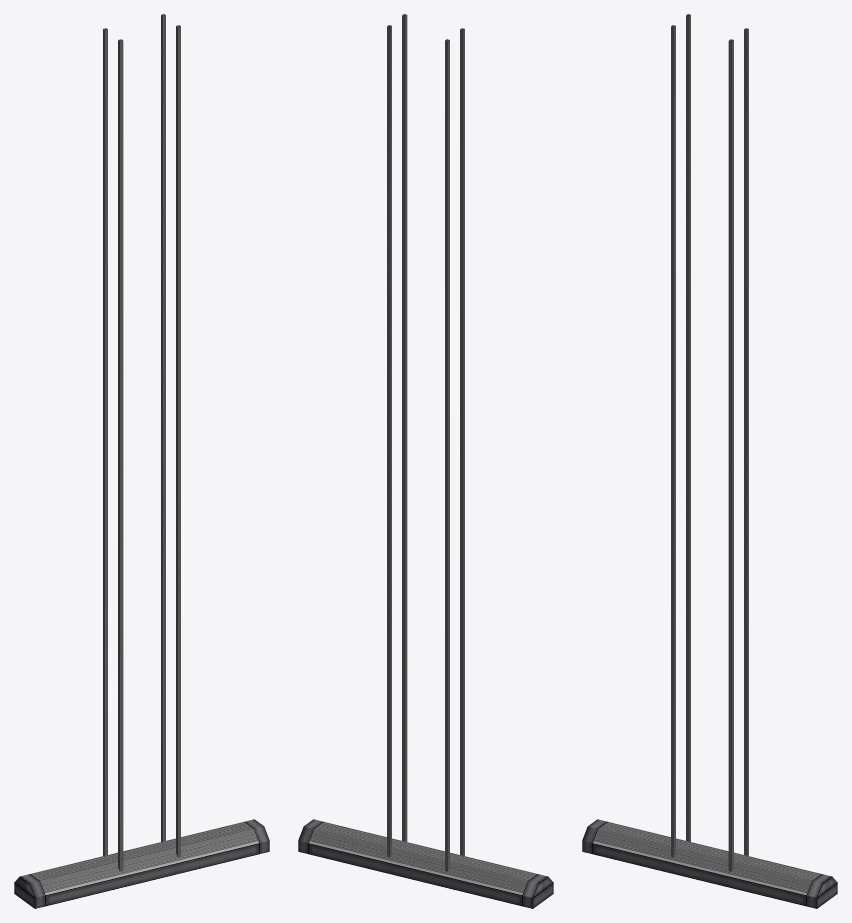
File: Cit_LightStripA_01.FBX
3 views of the same model, side by side, from view 1: azimuth 30°, elevation 25°; view 2: azimuth 150°, elevation 25°; view 3: azimuth 330°, elevation 25° (orthographic).
Parts seen in each view (by area): view 1: Cit_LightStripA_01; view 2: Cit_LightStripA_01; view 3: Cit_LightStripA_01.
Part boxes in pixels (<box>): Cit_LightStripA_01: <box>14,14,269,908</box>; Cit_LightStripA_01: <box>298,14,553,908</box>; Cit_LightStripA_01: <box>582,14,837,908</box>.
Bounding box in the file's own units: 1.96 × 6.75 × 0.3008.
